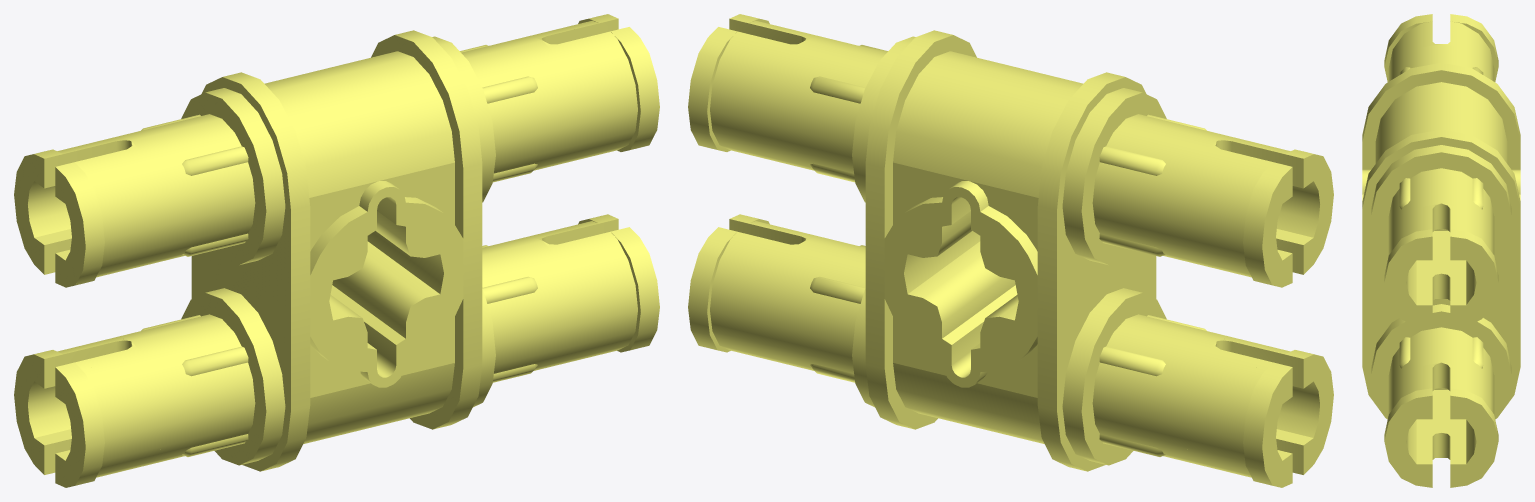
The picture shows the model from 3 angles, left to right: view 1: azimuth 30°, elevation 25°; view 2: azimuth 150°, elevation 25°; view 3: azimuth 270°, elevation 25°; orthographic projection. The views are drawn at different scales.
Visible parts, largest first — view 1: 65098.dat; view 2: 65098.dat; view 3: 65098.dat.
Part boxes in pixels (x1,y1,x2,y2): 65098.dat: [14, 14, 659, 487]; 65098.dat: [688, 14, 1333, 487]; 65098.dat: [1362, 14, 1520, 487].
Bounding box in the file's own units: 0.024 × 0.0152 × 0.0072.
